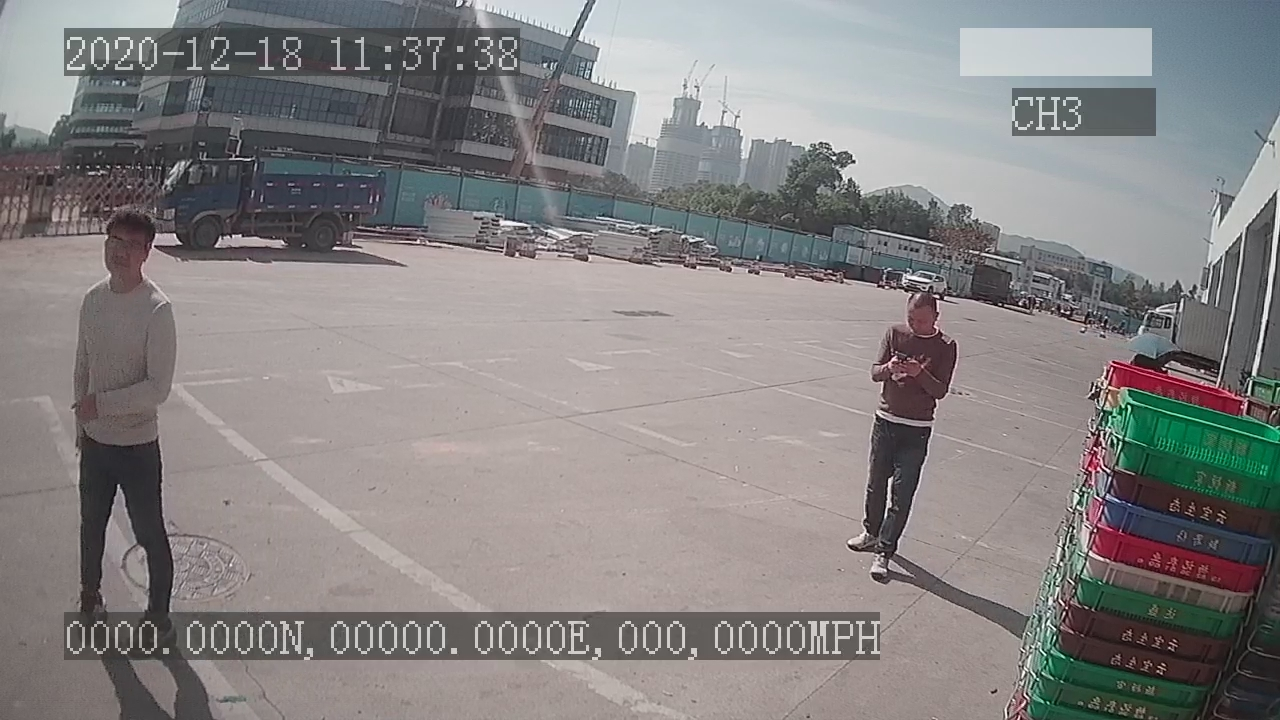person: (839, 292, 964, 587)
